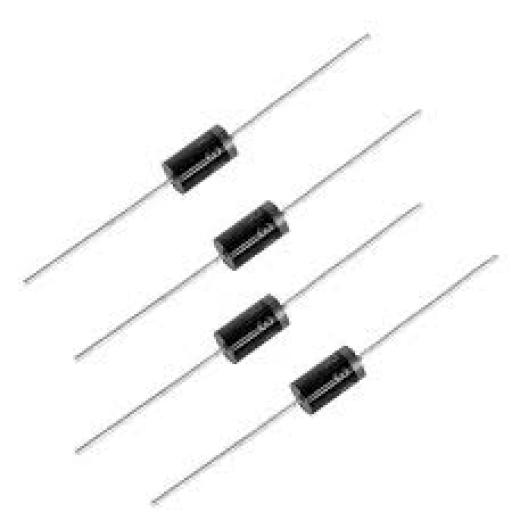DIODE: (18, 27, 498, 505), (159, 268, 333, 366), (276, 327, 388, 426), (142, 123, 244, 208), (211, 181, 303, 273)
